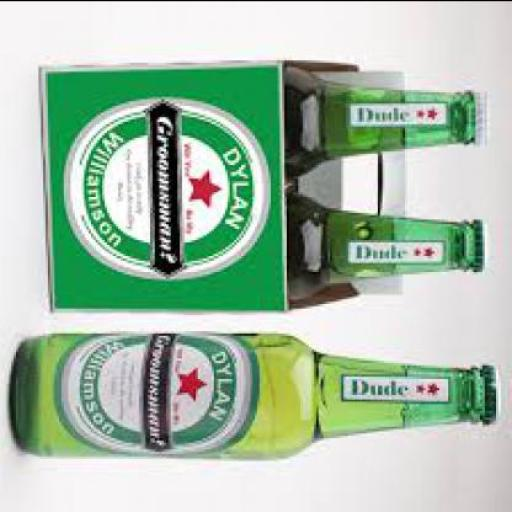cardboard: (41, 57, 289, 310)
glass: (14, 330, 487, 455), (287, 189, 480, 302), (286, 64, 478, 175)
metal: (487, 360, 505, 418), (478, 214, 489, 268), (480, 89, 491, 141)
